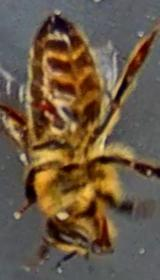varroa_mite: (23, 89, 63, 120)
